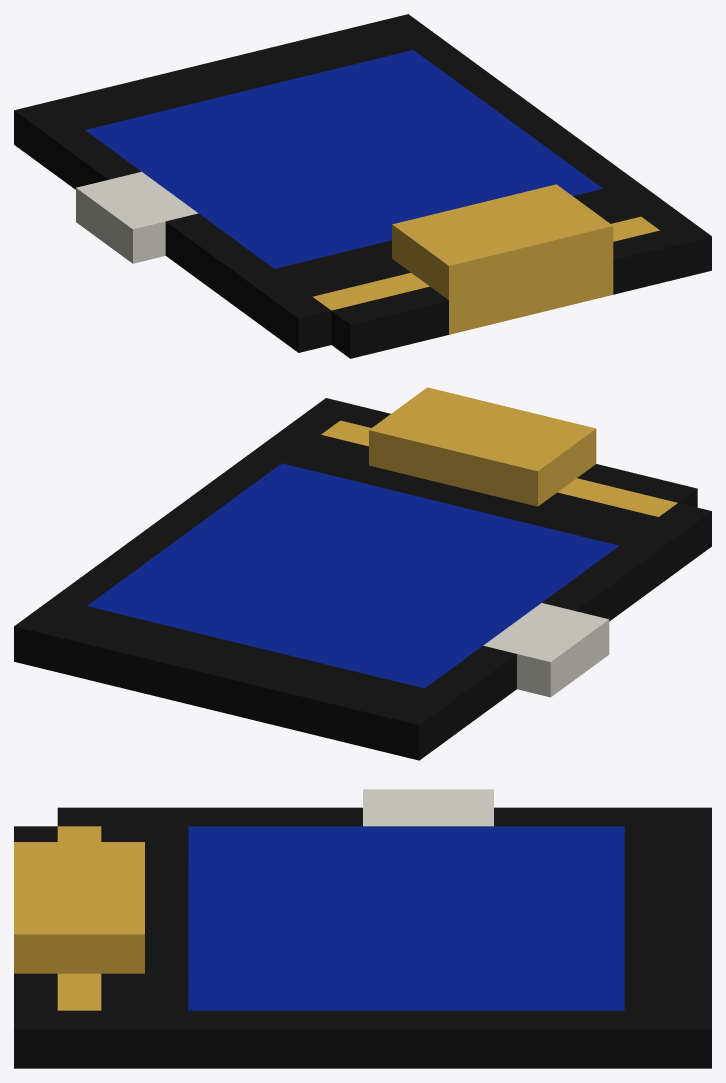
File: memory_card.glb
3 renders of one model, top to bottom at view 1: azimuth 30°, elevation 25°; view 2: azimuth 150°, elevation 25°; view 3: azimuth 270°, elevation 25°, orthographic. The views are drawn at different scales.
Visible parts, largest first — view 1: memory_card:compound; view 2: memory_card:compound; view 3: memory_card:compound.
Part boxes in pixels (box(x1,y1,x2,y2)): memory_card:compound: box(14, 14, 711, 358); memory_card:compound: box(14, 387, 711, 760); memory_card:compound: box(14, 789, 711, 1068).
Bounding box in the file's own units: 0.026 × 0.004 × 0.032.
